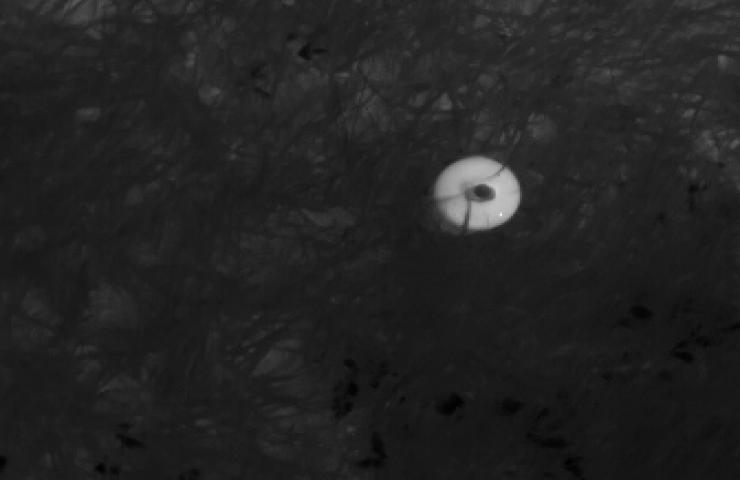landmines: (425, 151, 527, 238)
